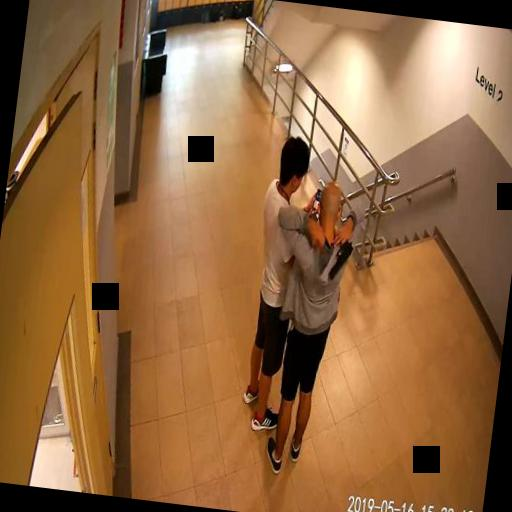Handgun: (327, 233, 353, 280)
